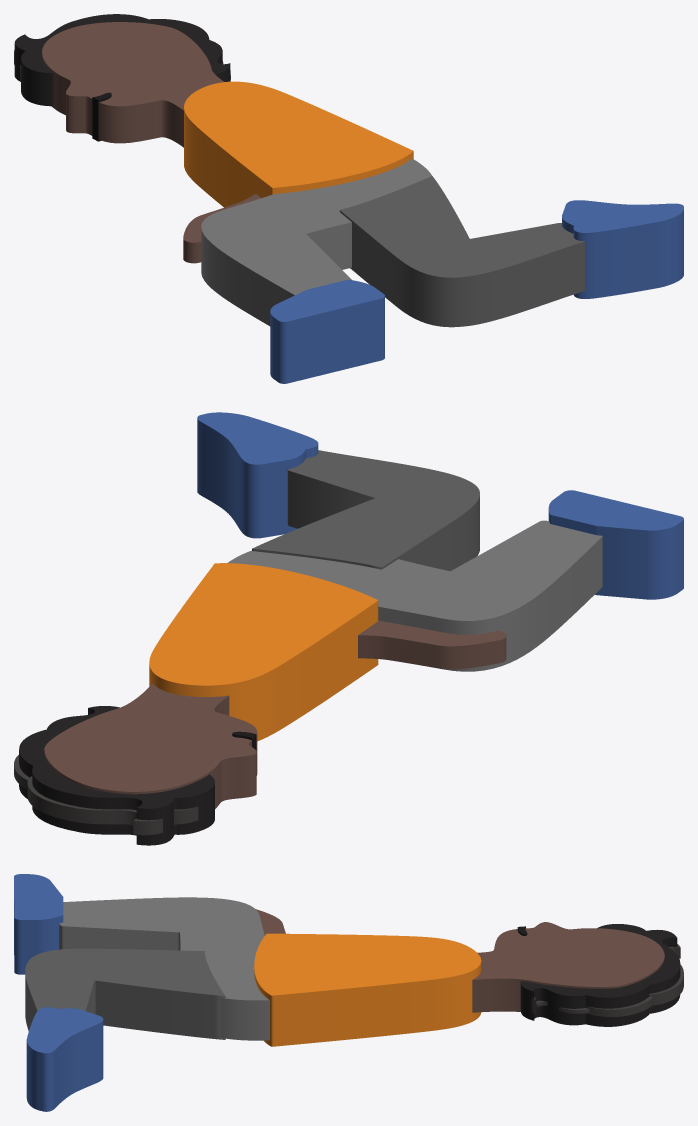
Rendered from emoji_u1f9ce_1f3ff.glb.
The picture shows the model from 3 angles, top to bottom: view 1: azimuth 30°, elevation 25°; view 2: azimuth 150°, elevation 25°; view 3: azimuth 270°, elevation 25°; orthographic projection. The views are drawn at different scales.
Parts seen in each view (by area): view 1: emoji_u1f9ce_1f3ff; view 2: emoji_u1f9ce_1f3ff; view 3: emoji_u1f9ce_1f3ff.
Boxes of the visible parts, bbox=[...] form: emoji_u1f9ce_1f3ff: bbox=[14, 14, 683, 383]; emoji_u1f9ce_1f3ff: bbox=[14, 412, 683, 845]; emoji_u1f9ce_1f3ff: bbox=[14, 874, 683, 1111].
Size of the model in its own units: 0.0213 by 0.0032 by 0.0332.
